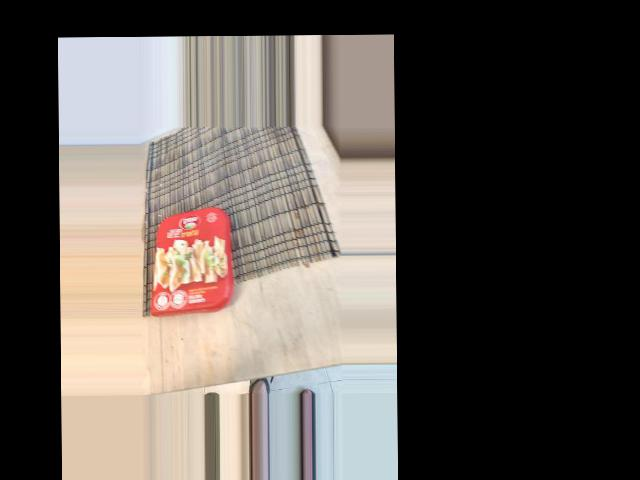cheese: (223, 230, 352, 321)
